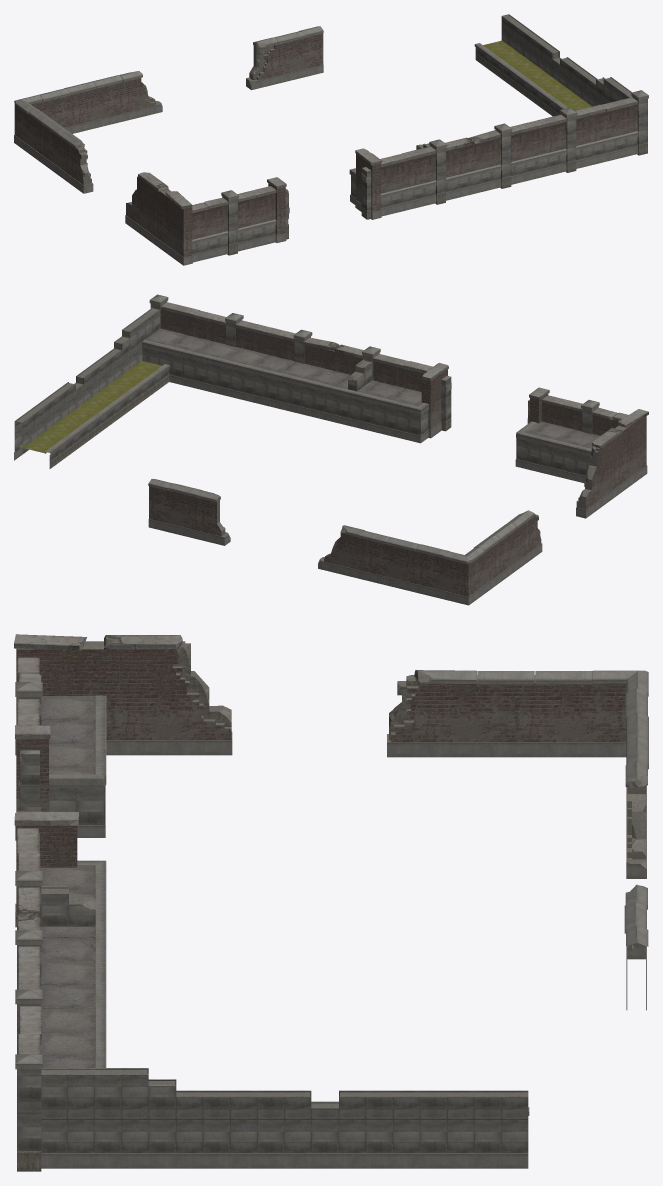
The model's file is Cemetery_STR_InnerWall_04.fbx.
3 views of the same model, one above another, from view 1: azimuth 30°, elevation 25°; view 2: azimuth 150°, elevation 25°; view 3: azimuth 270°, elevation 25° (orthographic). The views are drawn at different scales.
Visible parts, largest first — view 1: Cemetery_STR_InnerWall_04; view 2: Cemetery_STR_InnerWall_04; view 3: Cemetery_STR_InnerWall_04.
Boxes of the visible parts, x1,y1,x2,y2 form: Cemetery_STR_InnerWall_04: (14, 14, 648, 265); Cemetery_STR_InnerWall_04: (14, 294, 648, 605); Cemetery_STR_InnerWall_04: (14, 634, 648, 1171).
Size of the model in its own units: 2154 by 268 by 1361.
1 material, 1 textured.
